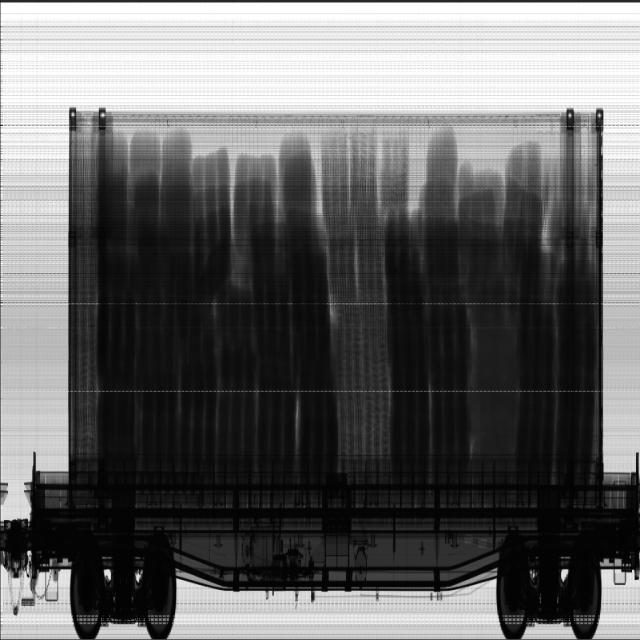clothes: (94, 123, 340, 462), (383, 132, 595, 465)
